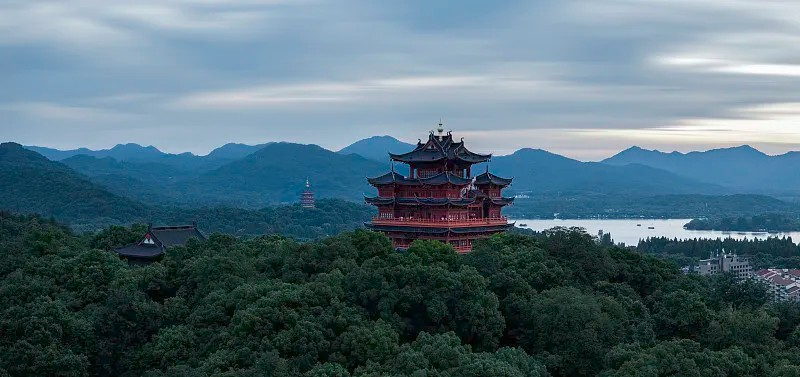Leifeng: (299, 175, 317, 210)
